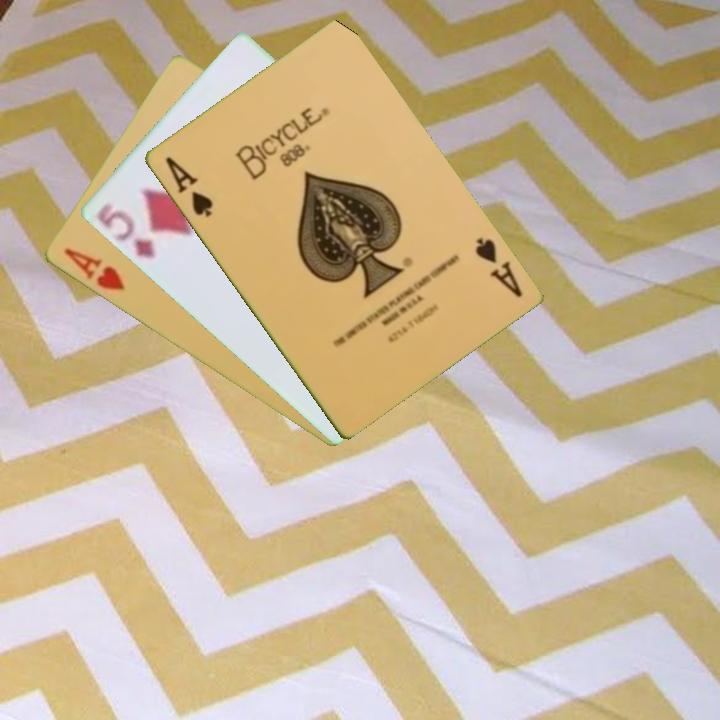5d: (92, 198, 159, 262)
Ah: (60, 244, 128, 294)
As: (161, 152, 216, 221), (471, 233, 525, 301)
